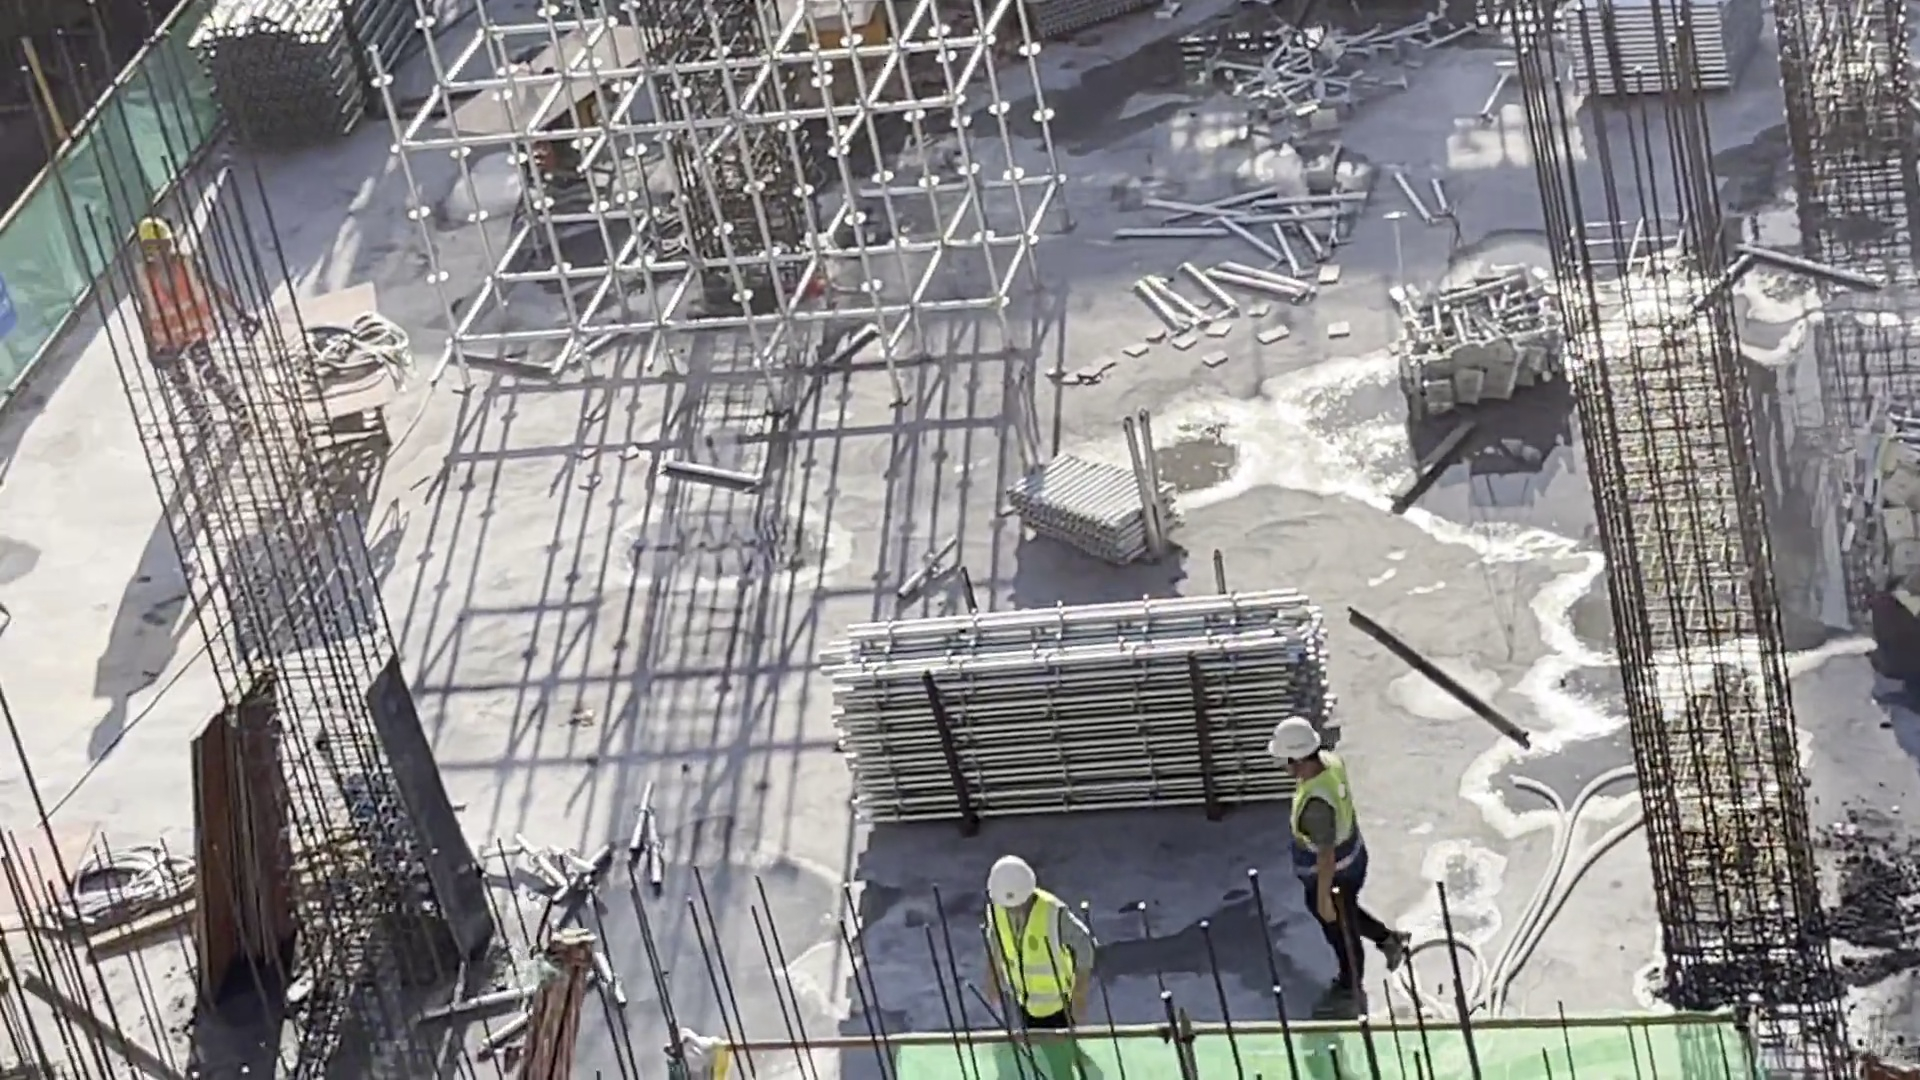cutter: (452, 52, 671, 212), (275, 268, 393, 485), (788, 1, 921, 118)
helmet: (984, 854, 1038, 911), (1277, 722, 1325, 760), (128, 223, 178, 252)
person: (1271, 709, 1410, 1025), (126, 219, 270, 458), (975, 850, 1095, 1027)
scaffold: (813, 641, 1336, 805), (183, 1, 369, 138), (1003, 463, 1163, 552)
vest: (981, 913, 1069, 1021), (135, 261, 219, 353), (1297, 779, 1361, 894)
